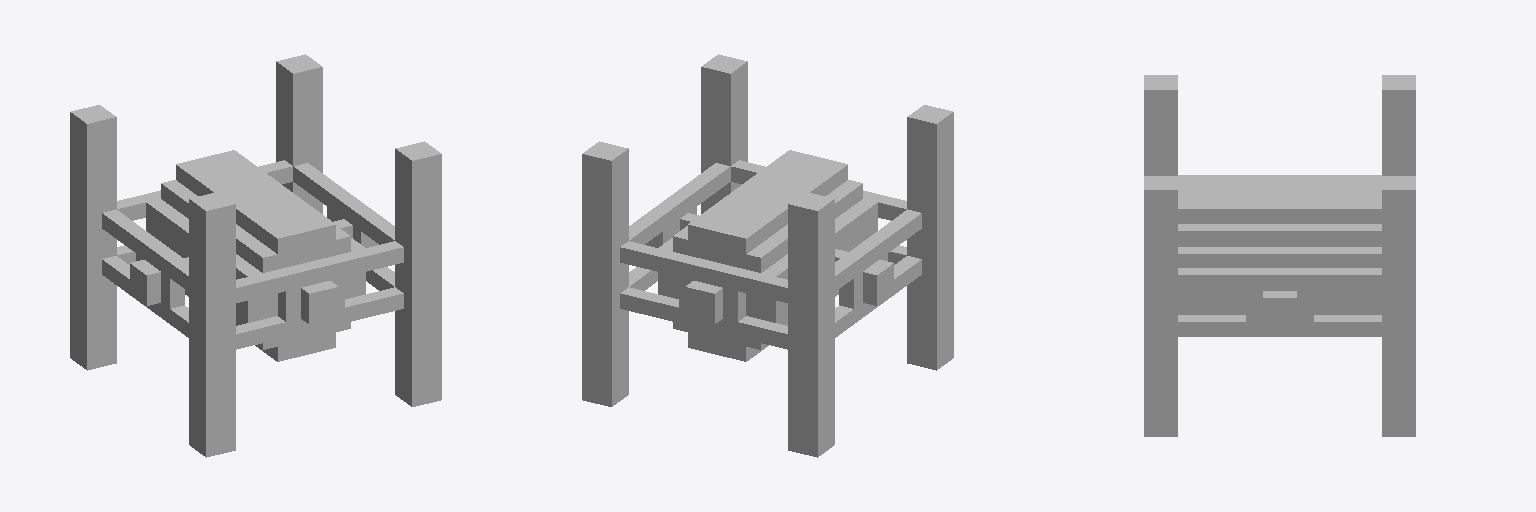
File: power_generators_shaft_ee_small.obj
The picture shows the model from 3 angles: view 1: azimuth 30°, elevation 25°; view 2: azimuth 150°, elevation 25°; view 3: azimuth 270°, elevation 25°; orthographic projection.
Parts seen in each view (by area): view 1: node_0_0_0.027; view 2: node_0_0_0.027; view 3: node_0_0_0.027.
Boxes of the visible parts, x1=… form: node_0_0_0.027: x1=70, y1=54, x2=441, y2=457; node_0_0_0.027: x1=582, y1=54, x2=953, y2=457; node_0_0_0.027: x1=1144, y1=75, x2=1415, y2=436.
Bounding box in the file's own units: 1 × 1 × 1.